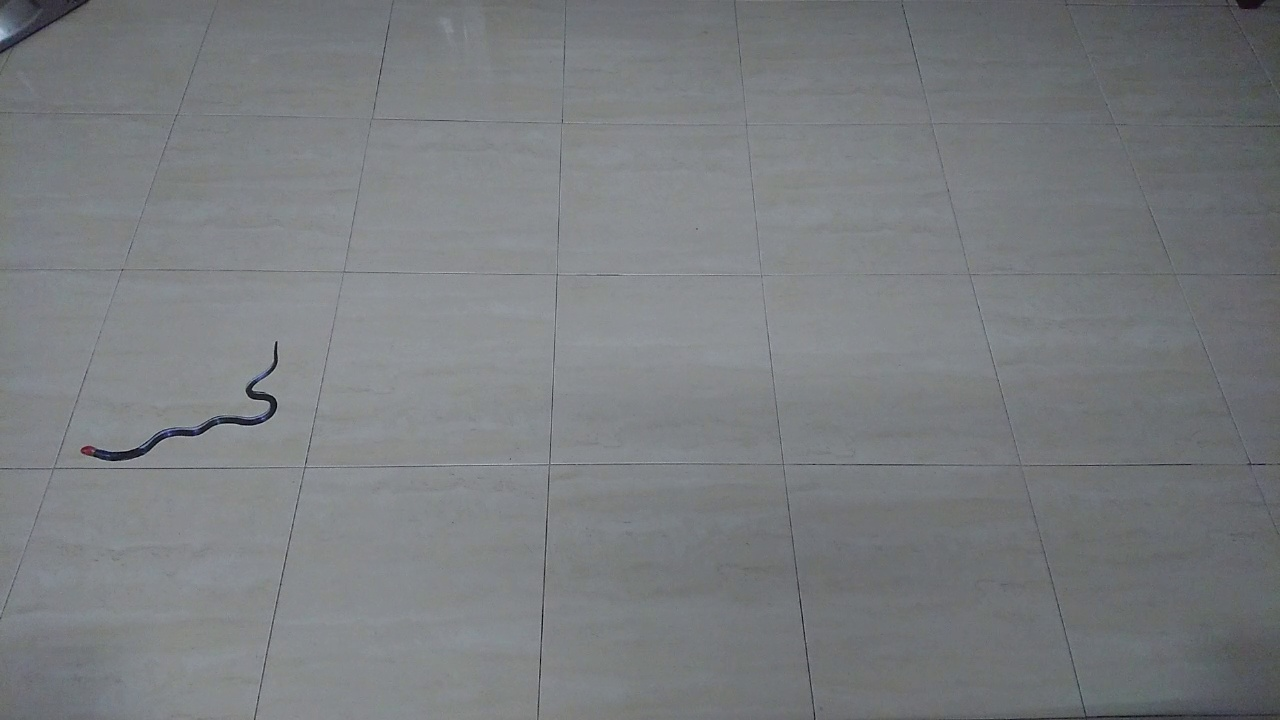snake: (70, 333, 296, 472)
